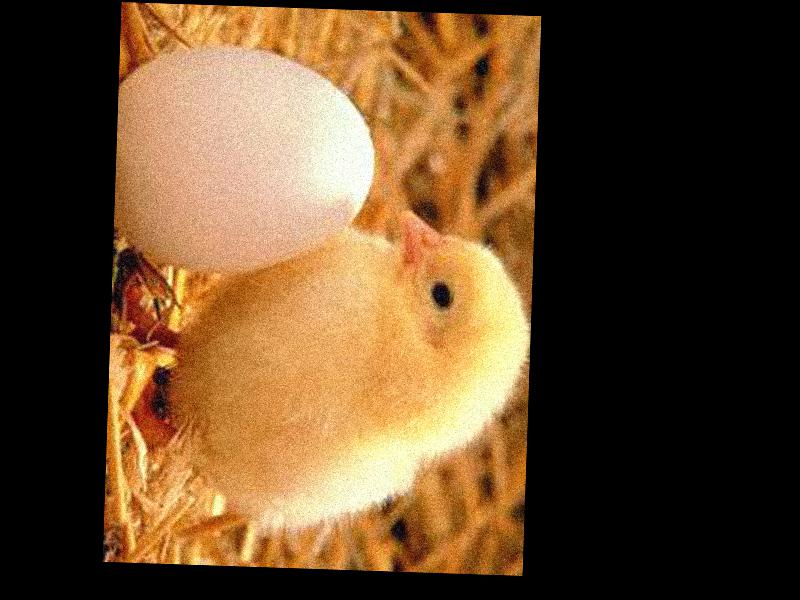Eggs: (112, 43, 379, 279)
